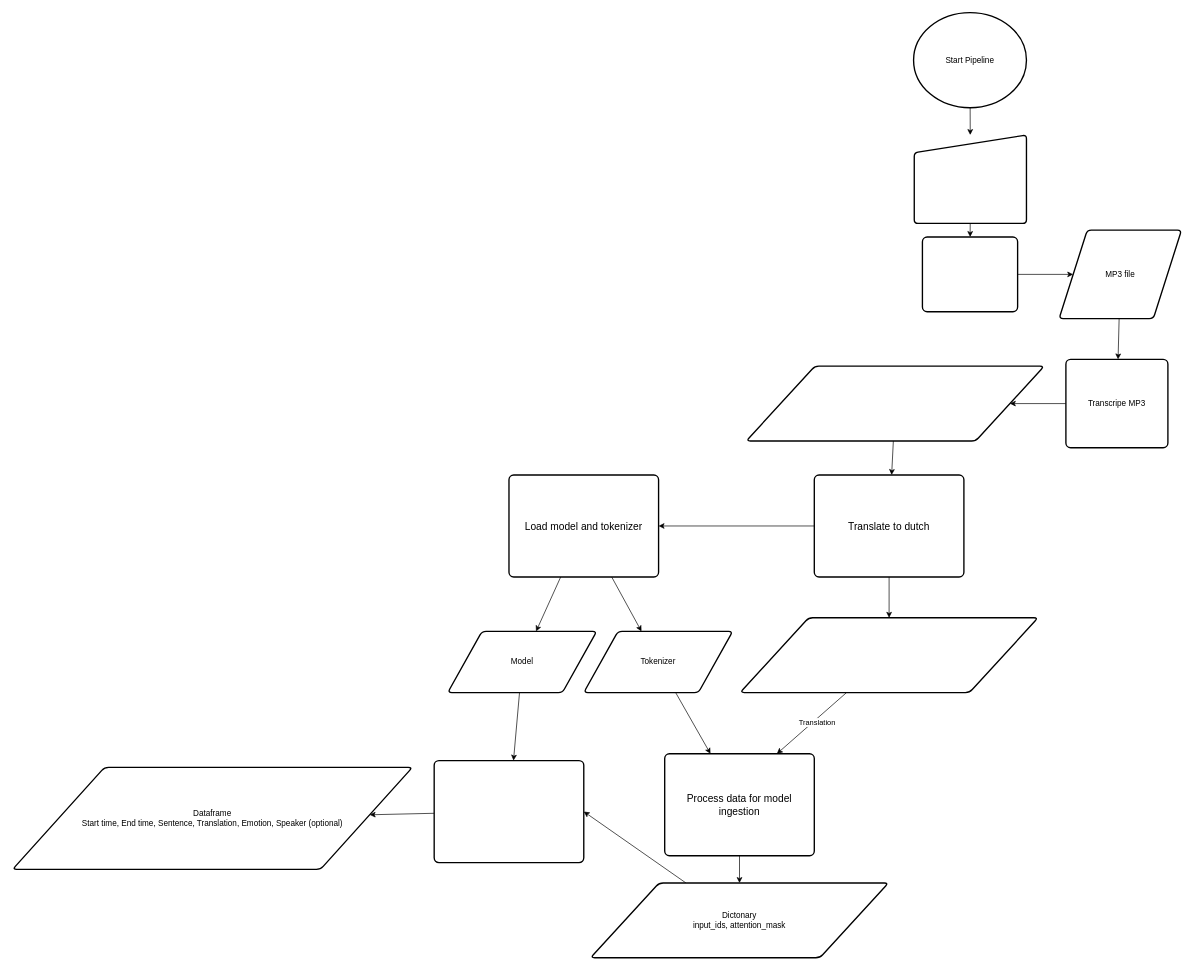
This 1193x970 diagram has some shape labels left out. Here are the shapes that lost their labels. From the top down, the box of each, then its label:
(913, 134, 1027, 224): Input URL of youtube video
(921, 236, 1018, 312): Download Video and convert to MP3
(745, 365, 1044, 441): Dataframe Start time, End time, Sentence, Speaker (optional)
(739, 617, 1038, 693): Dataframe Start time, End time, Sentence, Translation, Speaker (optional)
(433, 760, 584, 863): Model Inference
